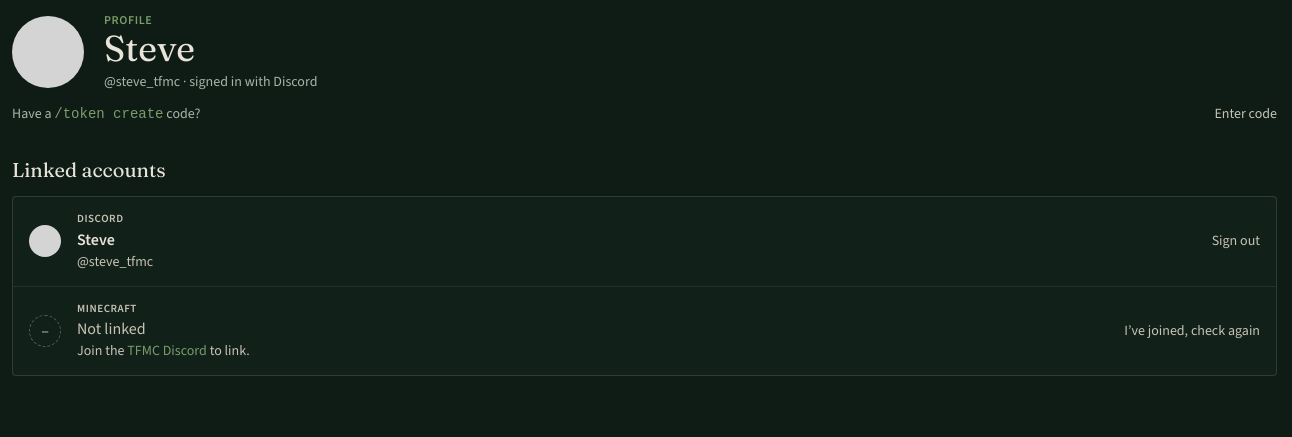
says when Discord still doesn't show the player in the server
The image size is (1292, 437).
Click the button "I’ve joined, check again": (1192, 331) 1124,321 -> 1260,341
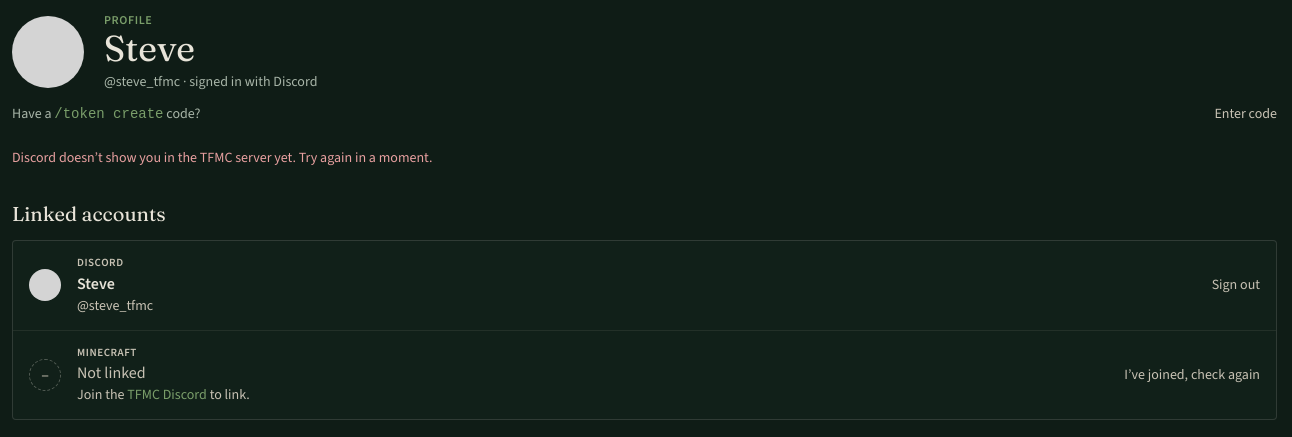
Now the message shows "doesn’t show you in the TFMC server yet", box 12,148 -> 432,167
